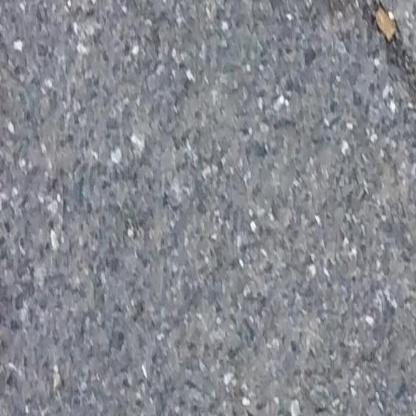Cracks: (316, 0, 416, 129)
